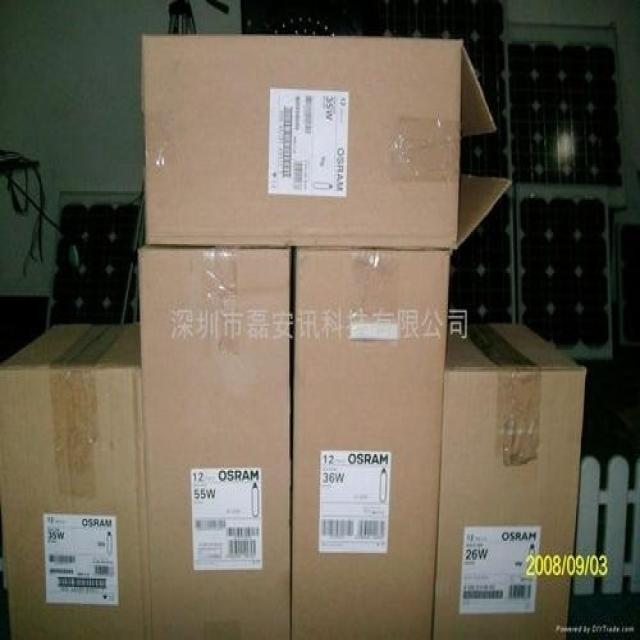box: (143, 32, 514, 246), (291, 245, 447, 638), (138, 244, 292, 638), (432, 319, 585, 638), (1, 321, 151, 638)
